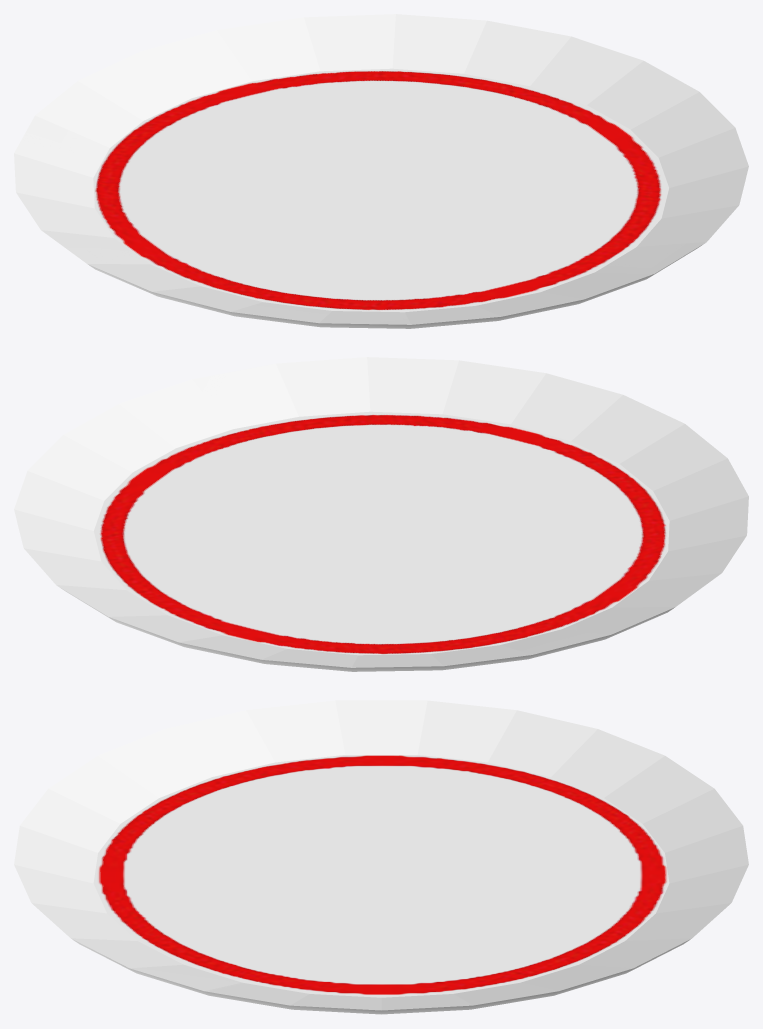
Rendered from Dish 1.FBX.
3 views of the same model, one above another, from view 1: azimuth 30°, elevation 25°; view 2: azimuth 150°, elevation 25°; view 3: azimuth 270°, elevation 25° (orthographic).
Visible parts, largest first — view 1: dish 1; view 2: dish 1; view 3: dish 1.
Boxes of the visible parts, x1=… form: dish 1: x1=14, y1=14, x2=748, y2=328; dish 1: x1=14, y1=357, x2=748, y2=671; dish 1: x1=14, y1=700, x2=748, y2=1014.
Size of the model in its own units: 59.18 by 3.38 by 59.3.
1 material, 1 textured.
